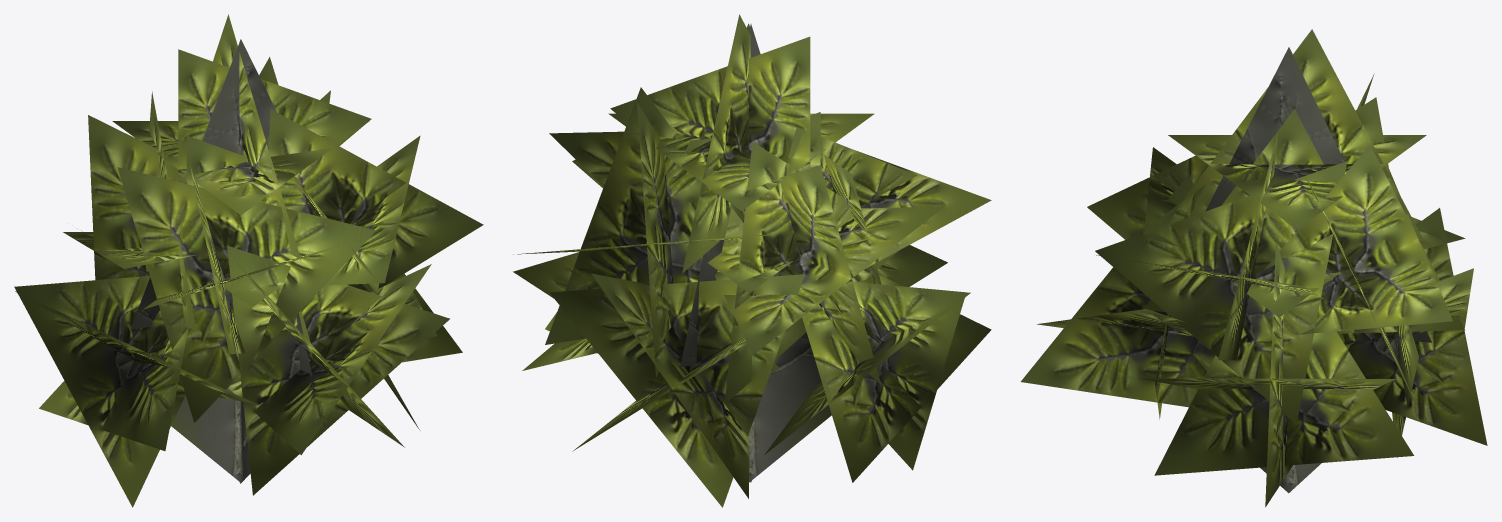
The model's file is BushSmall01.FBX.
3 views of the same model, side by side, from view 1: azimuth 30°, elevation 25°; view 2: azimuth 150°, elevation 25°; view 3: azimuth 270°, elevation 25° (orthographic). The views are drawn at different scales.
Visible parts, largest first — view 1: Bush_LOD0; view 2: Bush_LOD0; view 3: Bush_LOD0.
Boxes of the visible parts, x1=… form: Bush_LOD0: x1=14, y1=14, x2=483, y2=507; Bush_LOD0: x1=513, y1=14, x2=991, y2=507; Bush_LOD0: x1=1021, y1=29, x2=1487, y2=507.
Size of what is drawn, in the model's own units: 135 by 139 by 126.
